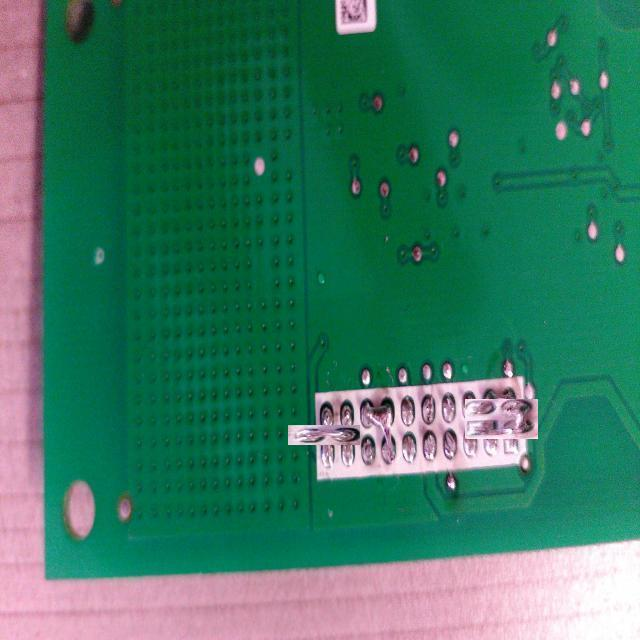Short_circuit: (473, 391, 530, 448), (360, 392, 396, 475), (302, 410, 352, 460)
